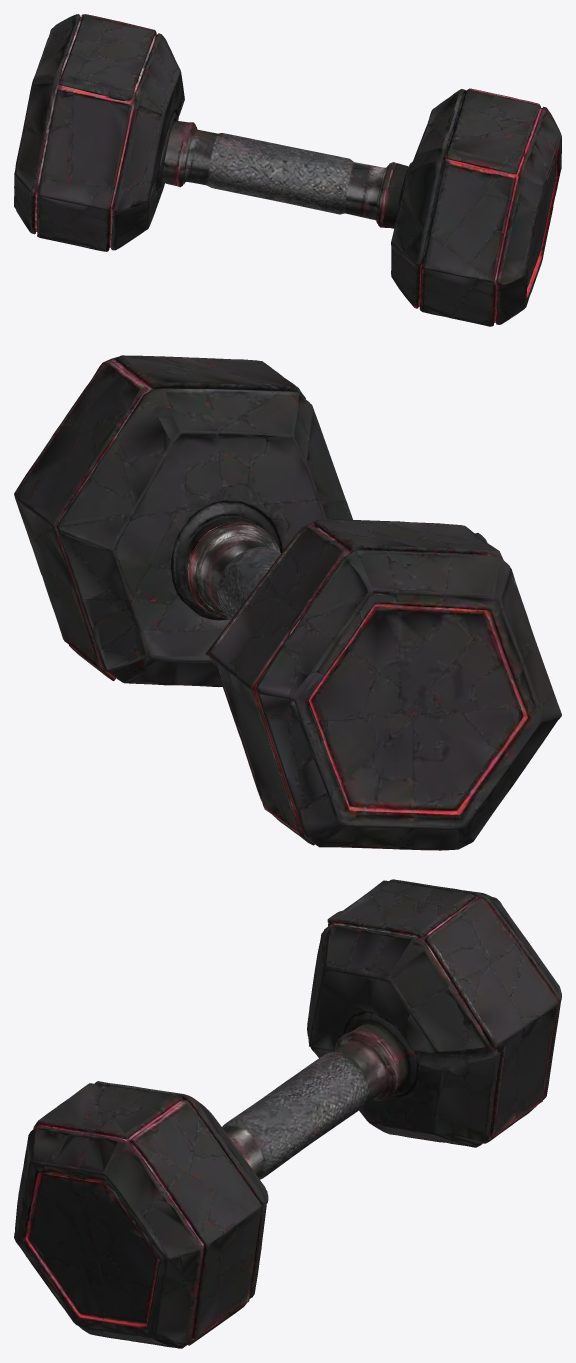
File: dumbell_3d.glb
The picture shows the model from 3 angles, top to bottom: view 1: azimuth 30°, elevation 25°; view 2: azimuth 150°, elevation 25°; view 3: azimuth 270°, elevation 25°; orthographic projection. The views are drawn at different scales.
Visible parts, largest first — view 1: tmp1j0psqk3obj; view 2: tmp1j0psqk3obj; view 3: tmp1j0psqk3obj.
Part boxes in pixels (x1,y1,x2,y2): tmp1j0psqk3obj: (14, 14, 561, 326); tmp1j0psqk3obj: (14, 355, 561, 850); tmp1j0psqk3obj: (14, 879, 561, 1348).
Size of the model in its own units: 0.9999 by 0.5438 by 0.9116.
1 material, 1 textured.
